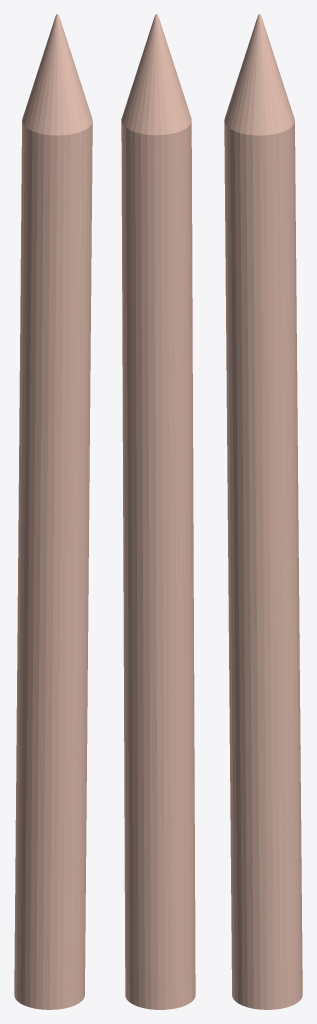
The model's file is needle0-001.glb.
The picture shows the model from 3 angles, left to right: view 1: azimuth 90°, elevation 25°; view 2: azimuth 210°, elevation 25°; view 3: azimuth 270°, elevation 25°; orthographic projection.
Parts seen in each view (by area): view 1: needle0.001; view 2: needle0.001; view 3: needle0.001.
Boxes of the visible parts, x1,y1,x2,y2 form: needle0.001: [14, 14, 92, 1009]; needle0.001: [121, 14, 195, 1009]; needle0.001: [224, 14, 302, 1009].
Size of the model in its own units: 0.6381 by 9.77 by 0.7084.
Materials: 1 (1 with a texture image).
